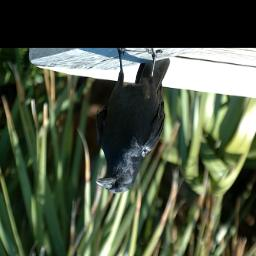Crow: (96, 48, 171, 194)
